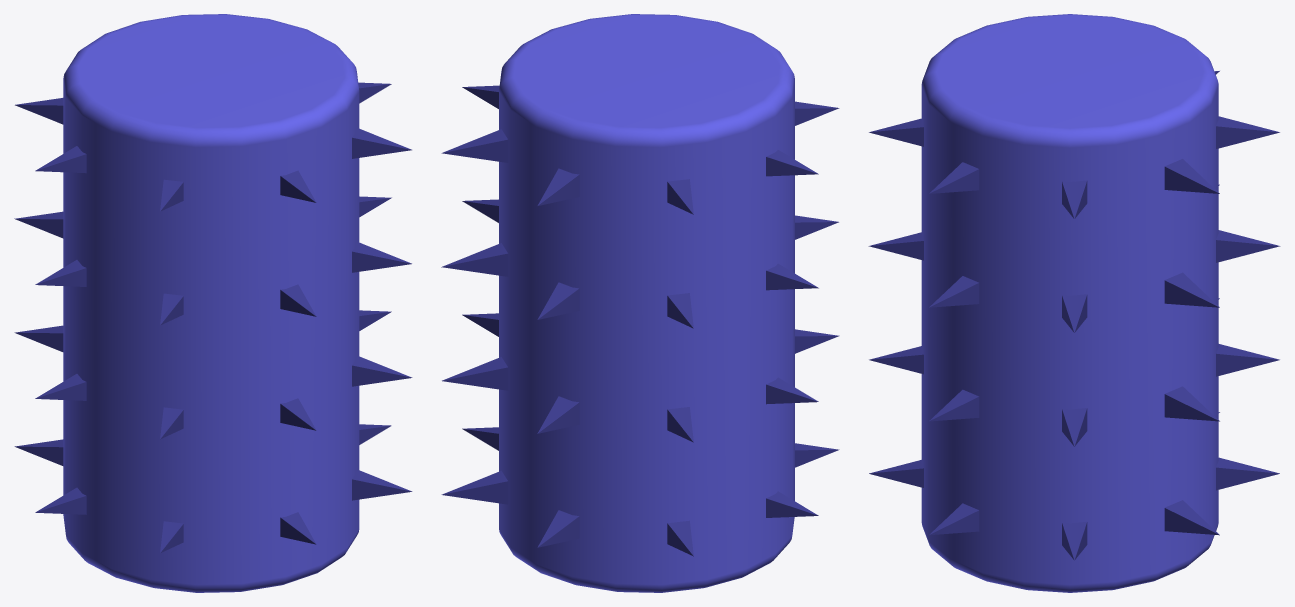
Rendered from Cyclinder_thorns.fbx.
The picture shows the model from 3 angles, left to right: view 1: azimuth 30°, elevation 25°; view 2: azimuth 150°, elevation 25°; view 3: azimuth 270°, elevation 25°; orthographic projection.
Visible parts, largest first — view 1: polySurface75; view 2: polySurface75; view 3: polySurface75.
Boxes of the visible parts, x1,y1,x2,y2 form: polySurface75: (14,14,412,592); polySurface75: (441,14,839,592); polySurface75: (868,14,1280,592).
Bounding box in the file's own units: 10.88 × 13.48 × 10.88.
